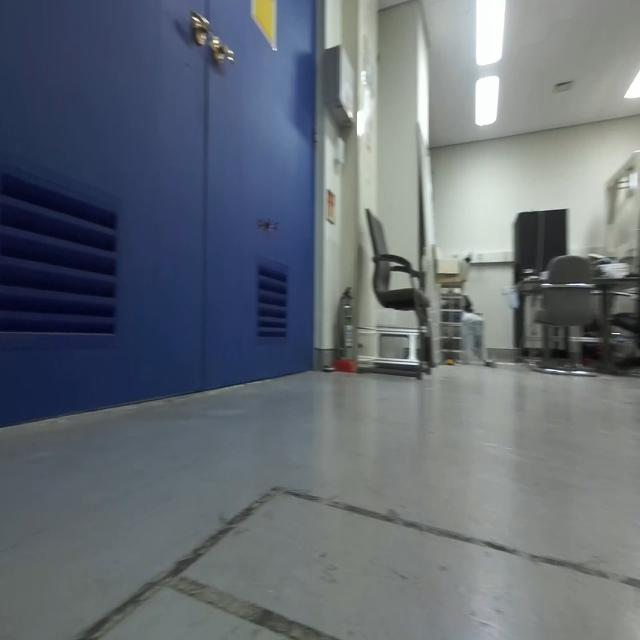crazyflie: (253, 208, 285, 242)
